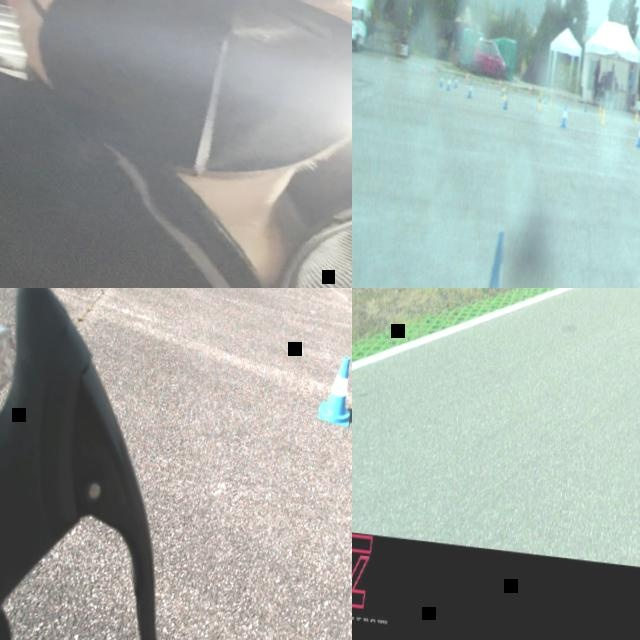Mask: (0, 0, 352, 194)
NO-Safety Vest: (0, 89, 352, 288)
Person: (0, 0, 352, 288)
Safety Cone: (471, 227, 514, 288), (317, 352, 352, 424), (559, 102, 569, 127), (465, 75, 475, 99), (501, 87, 511, 109), (536, 87, 544, 109), (445, 70, 453, 90), (438, 68, 445, 89), (635, 119, 640, 146), (599, 106, 606, 124), (453, 73, 459, 87), (547, 92, 553, 106), (583, 98, 589, 112), (382, 52, 388, 65), (419, 60, 425, 73), (501, 83, 506, 98), (463, 69, 469, 81), (543, 90, 548, 104), (596, 102, 601, 116), (496, 76, 502, 87), (527, 82, 533, 93), (634, 109, 638, 123), (500, 83, 504, 96)
